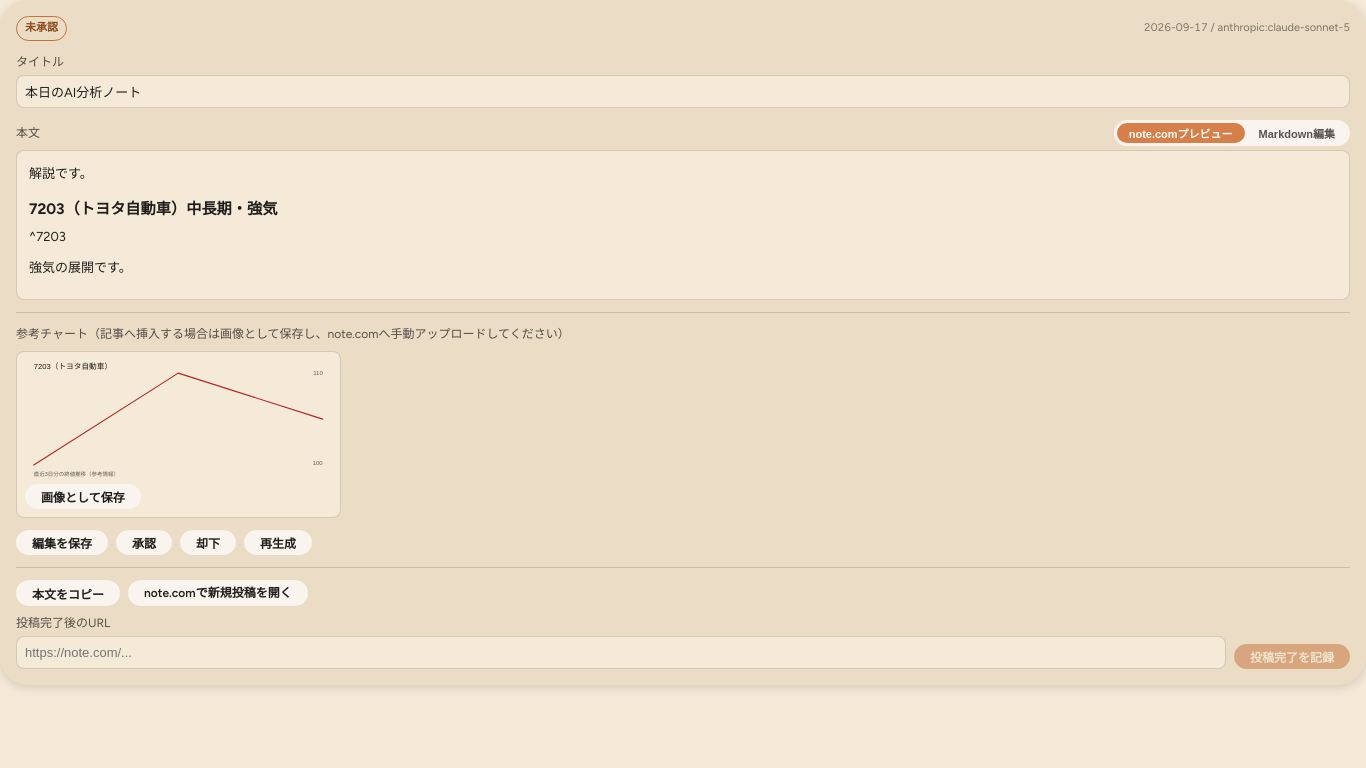
Test: DailyNoteReview › 参考ピックがある場合も本文をコピーボタンが正常に完了する（note.comチャートトリガー挿入込み）
The image size is (1366, 768).
Check: the picture "7203（トヨタ自動車） 110 100 直近3日分の終値推移（参考情報）" is shown, box [25, 360, 332, 480]
Click the button "本文をコピー" at (68, 593), box [16, 580, 120, 606]
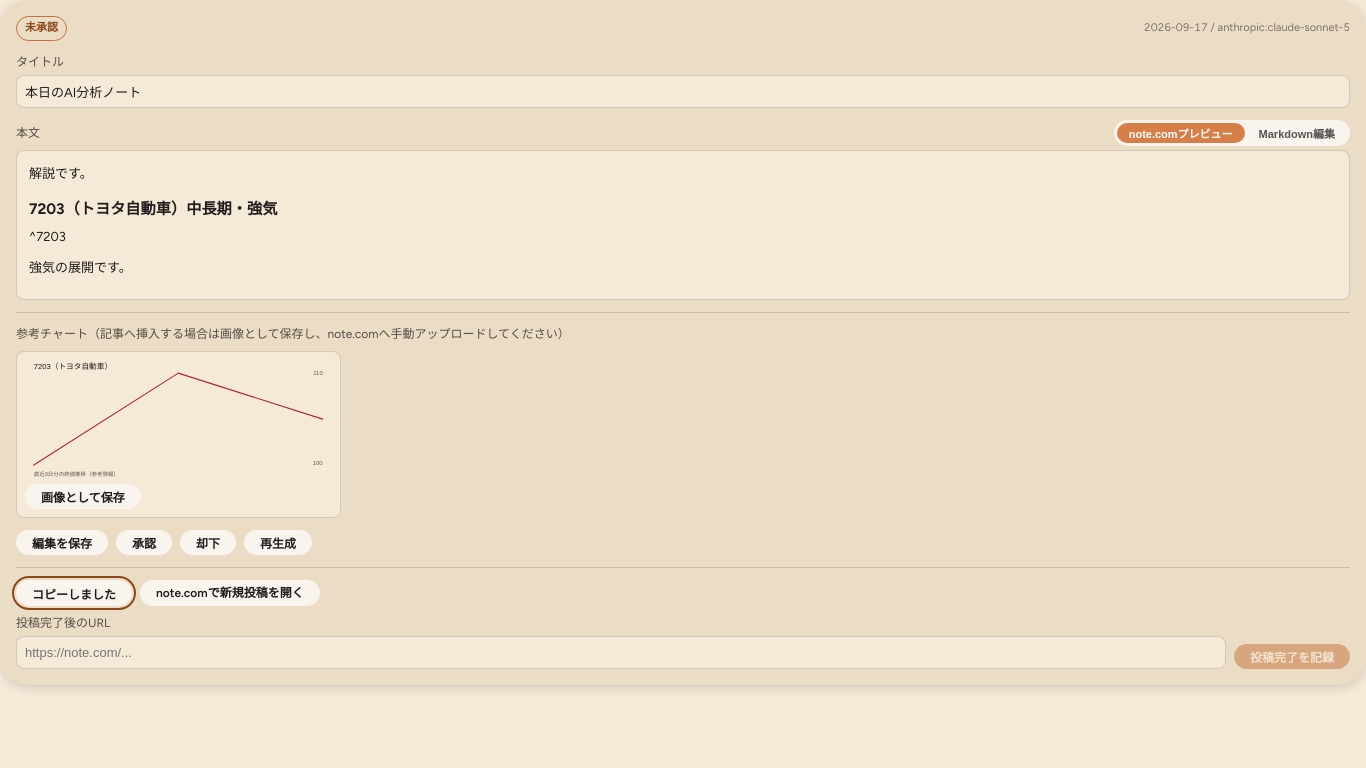
Check: the button "コピーしました" is shown, box [16, 580, 132, 606]
